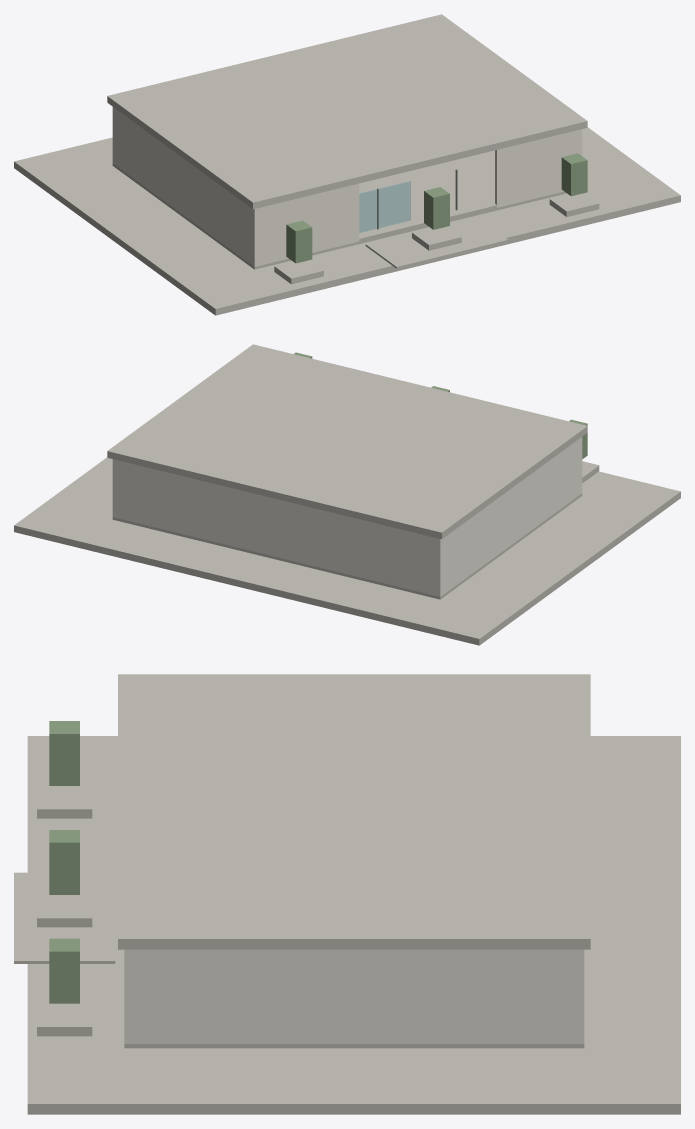
The model's file is serenity-house.glb.
3 renders of one model, top to bottom at view 1: azimuth 30°, elevation 25°; view 2: azimuth 150°, elevation 25°; view 3: azimuth 270°, elevation 25°, orthographic. The views are drawn at different scales.
Visible parts, largest first — view 1: roof_roof, site_base, structure_floor, structure_left, structure_front-left, structure_front-right, site_path, glass_front-glazing, site_tree-0, site_tree-2, site_tree-1, site_planter-2 (+2 smaller); view 2: roof_roof, site_base, structure_rear, structure_left, structure_floor; view 3: roof_roof, site_base, structure_right, site_path, structure_floor, site_tree-2, site_tree-0, site_tree-1, site_planter-2, site_planter-0, site_planter-1.
Boxes of the visible parts, x1,y1,x2,y2 form: roof_roof: (107, 14, 587, 209); site_base: (14, 127, 680, 315); structure_floor: (112, 150, 566, 269); structure_left: (112, 107, 254, 266); structure_front-left: (254, 183, 359, 266); structure_front-right: (495, 129, 582, 207); site_path: (365, 217, 508, 268); glass_front-glazing: (359, 181, 410, 232); site_tree-0: (286, 220, 312, 263); site_tree-2: (561, 153, 587, 196); site_tree-1: (424, 187, 449, 229); site_planter-2: (549, 193, 599, 216); roof_roof: (107, 344, 587, 539); site_base: (14, 457, 680, 645); structure_rear: (112, 459, 440, 596); structure_left: (440, 437, 582, 596); structure_floor: (112, 493, 582, 599); roof_roof: (118, 674, 590, 949); site_base: (27, 736, 680, 1114); structure_right: (124, 949, 584, 1043); site_path: (14, 872, 115, 963); structure_floor: (124, 1044, 584, 1048); site_tree-2: (49, 938, 79, 1003); site_tree-0: (49, 721, 79, 785); site_tree-1: (49, 830, 79, 894); site_planter-2: (37, 1001, 92, 1036); site_planter-0: (37, 783, 92, 818); site_planter-1: (37, 892, 92, 927).
Size of the model in its own units: 20.45 by 3.22 by 15.66.
